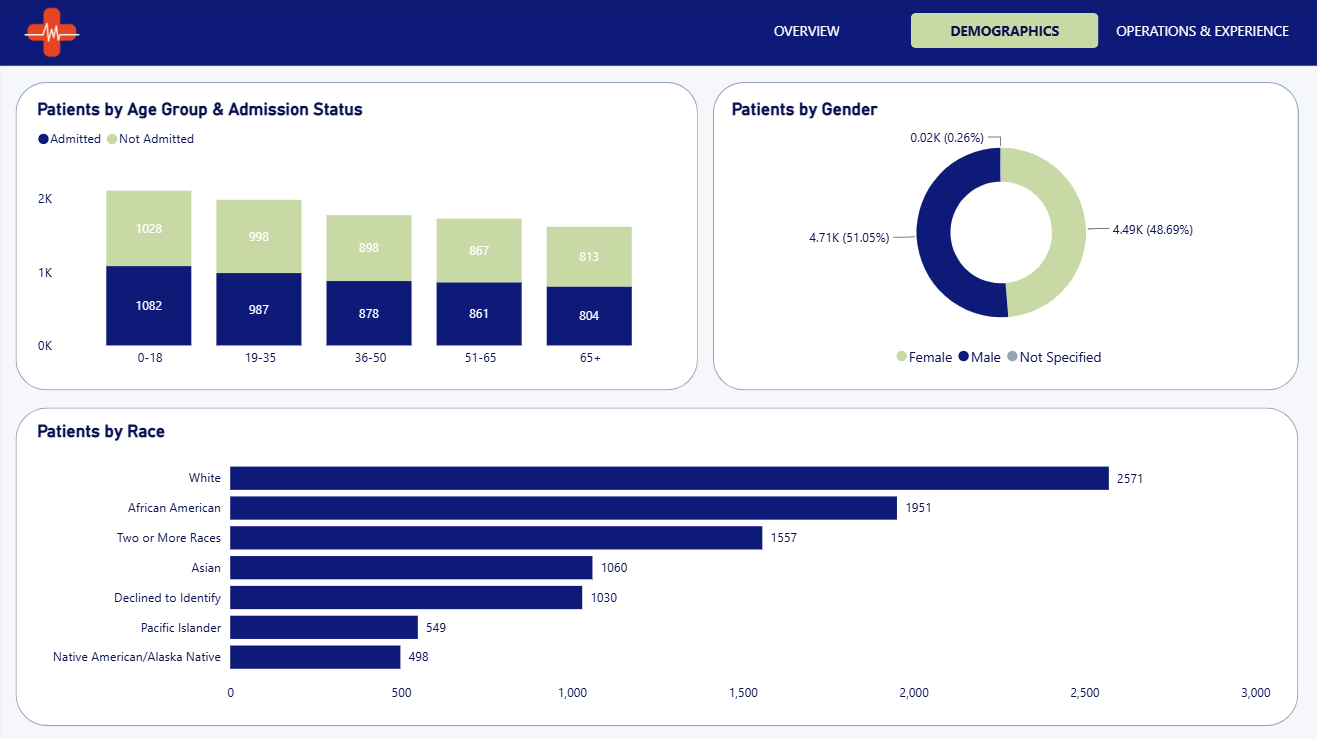

What the dashboard file says about the page in this screenshot:
{"tool":"powerbi","page":{"name":"DEMOGRAPHICS","canvas":[1280,720],"ordinal":1},"visuals":[{"type":"shape","box":[0,0,1280.7,720.1],"z":0},{"type":"shape","box":[0,0,1280.7,66],"z":1000},{"type":"shape","box":[16,397,1244.8,309.2],"z":2000},{"type":"shape","box":[692.2,81.8,568.5,299.2],"z":3000},{"type":"shape","box":[16,81.8,662.3,299.2],"z":4000},{"type":"donutChart","title":"Patients by Gender","fields":{"Y":["CountNonNull(Hospital ER_Data.Patient Id)"],"Series":["Hospital ER_Data.Patient Gender"]},"box":[706.2,97.7,532.6,269.3],"z":5000},{"type":"pageNavigator","box":[692.4,14,568.3,34],"z":6000},{"type":"barChart","title":"Patients by Race","fields":{"Category":["Hospital ER_Data.Patient Race"],"Y":["CountNonNull(Hospital ER_Data.Patient Id)"]},"box":[31.9,410.9,1206.9,281.3],"z":7000},{"type":"columnChart","title":"Patients by Age Group & Admission Status","fields":{"Y":["Hospital ER_Data.Total patients"],"Category":["Hospital ER_Data.Age Group"],"Series":["Hospital ER_Data.Patient Admission Flag"]},"box":[31.9,97.7,632.4,269.3],"z":8000},{"type":"image","box":[25,0,53.3,66.7],"z":9000}]}

Visuals, with their boxes in screenshot pixels (x1, y1, x2, y2), scaled from the page's 1280x720 canvas onto the 1317x739 screenshot:
shape: <box>0,0,1316,738</box>
shape: <box>0,0,1316,68</box>
shape: <box>16,407,1297,725</box>
shape: <box>712,84,1297,391</box>
shape: <box>16,84,698,391</box>
"Patients by Gender" donutChart: <box>727,100,1275,377</box>
pageNavigator: <box>712,14,1297,49</box>
"Patients by Race" barChart: <box>33,422,1275,710</box>
"Patients by Age Group & Admission Status" columnChart: <box>33,100,684,377</box>
image: <box>26,0,81,68</box>
